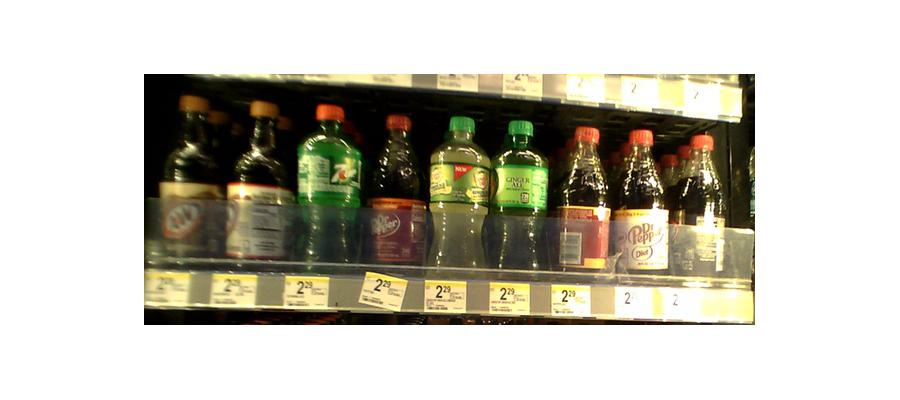bottle: (157, 95, 222, 267), (227, 103, 291, 269), (296, 104, 360, 267), (363, 111, 424, 272), (430, 115, 490, 275), (489, 120, 550, 276), (555, 122, 611, 282), (615, 125, 669, 285), (673, 128, 727, 288)
